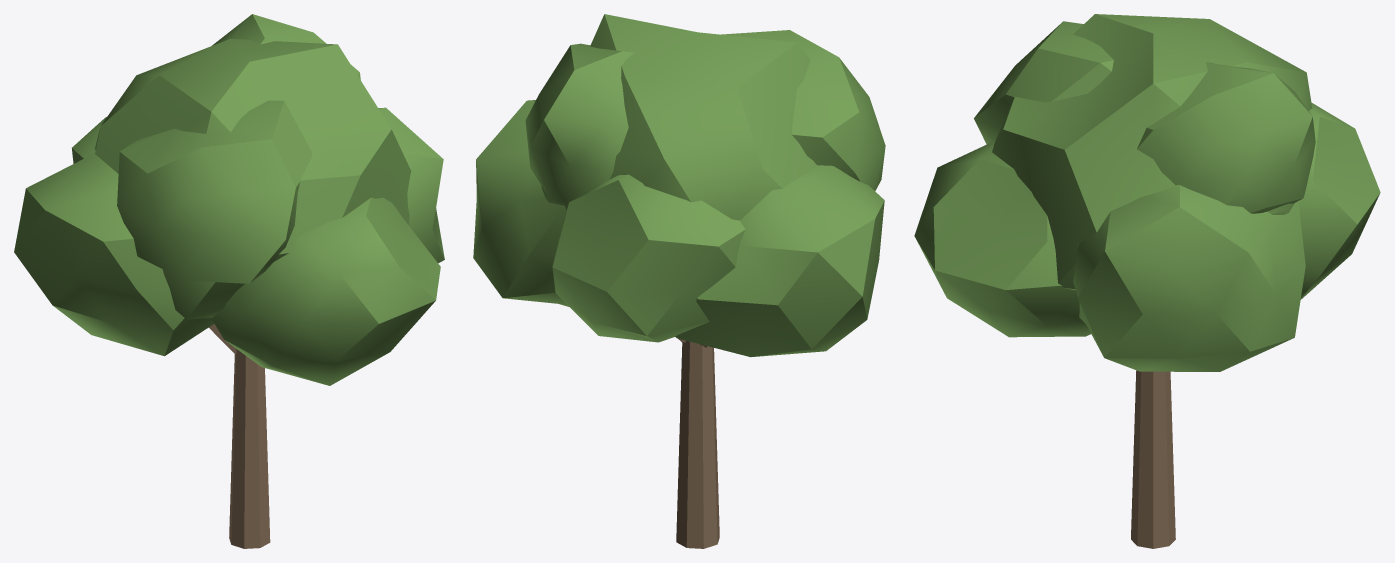
File: tree_broadleaf_b.glb
3 views of the same model, side by side, from view 1: azimuth 30°, elevation 25°; view 2: azimuth 150°, elevation 25°; view 3: azimuth 270°, elevation 25° (orthographic). The views are drawn at different scales.
Parts seen in each view (by area): view 1: tree_broadleaf_b; view 2: tree_broadleaf_b; view 3: tree_broadleaf_b.
Part boxes in pixels (x1,y1,x2,y2): tree_broadleaf_b: [14, 14, 444, 548]; tree_broadleaf_b: [473, 14, 885, 548]; tree_broadleaf_b: [914, 14, 1380, 548].
Bounding box in the file's own units: 6.93 × 8.44 × 7.05.
